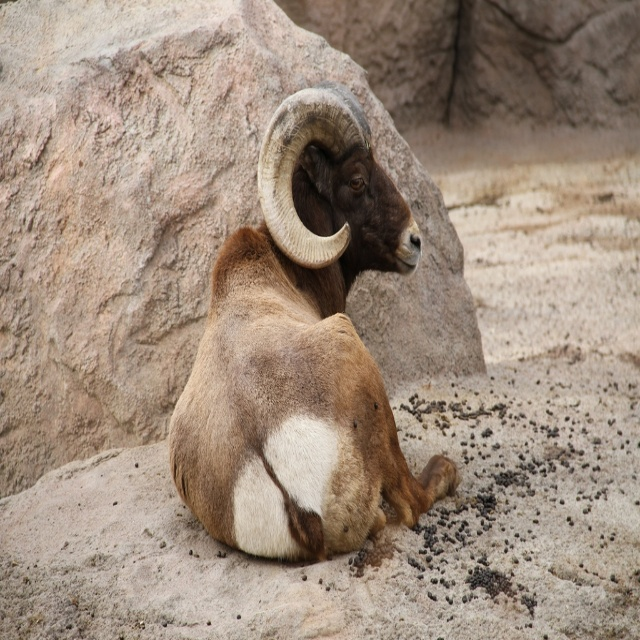Sheep: (167, 77, 464, 563)
